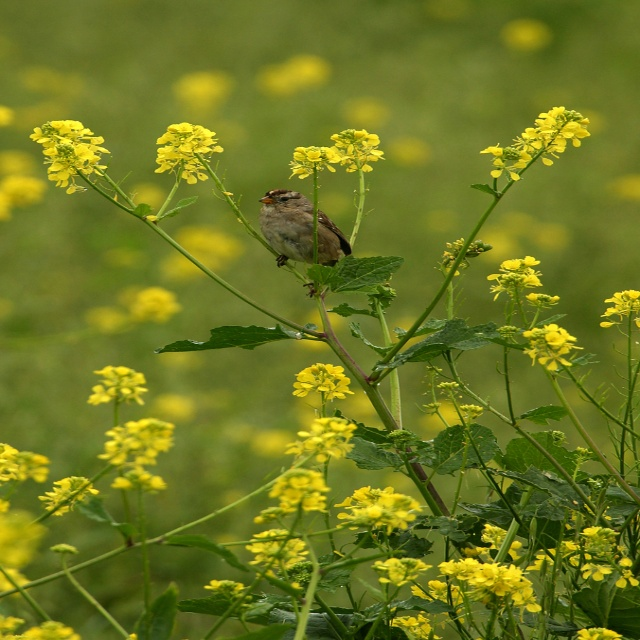Sparrow: (258, 189, 352, 298)
